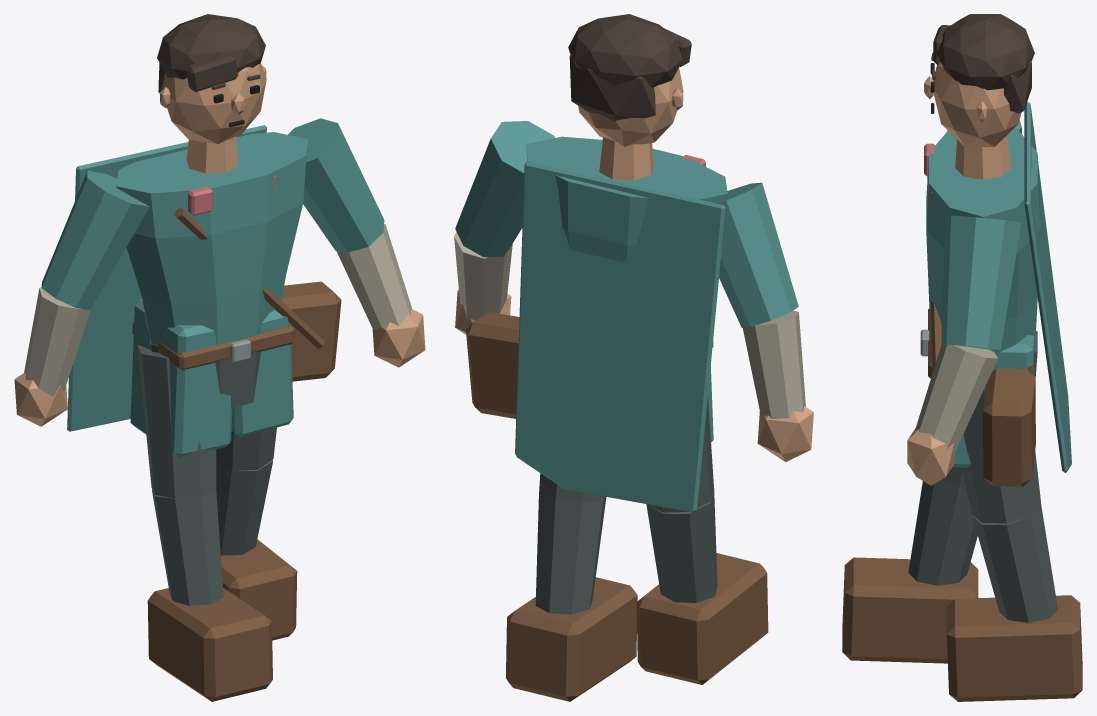
Rendered from npc_wayfarer_step_l_v01.glb.
The picture shows the model from 3 angles, left to right: view 1: azimuth 30°, elevation 25°; view 2: azimuth 150°, elevation 25°; view 3: azimuth 270°, elevation 25°; orthographic projection. The views are drawn at different scales.
Parts seen in each view (by area): view 1: GEO_npc_wayfarer_step_l_v01; view 2: GEO_npc_wayfarer_step_l_v01; view 3: GEO_npc_wayfarer_step_l_v01.
Boxes of the visible parts, x1,y1,x2,y2 form: GEO_npc_wayfarer_step_l_v01: (14, 14, 425, 701); GEO_npc_wayfarer_step_l_v01: (454, 14, 813, 701); GEO_npc_wayfarer_step_l_v01: (842, 14, 1082, 701).
Bounding box in the file's own units: 1.29 × 2.06 × 0.6906.
